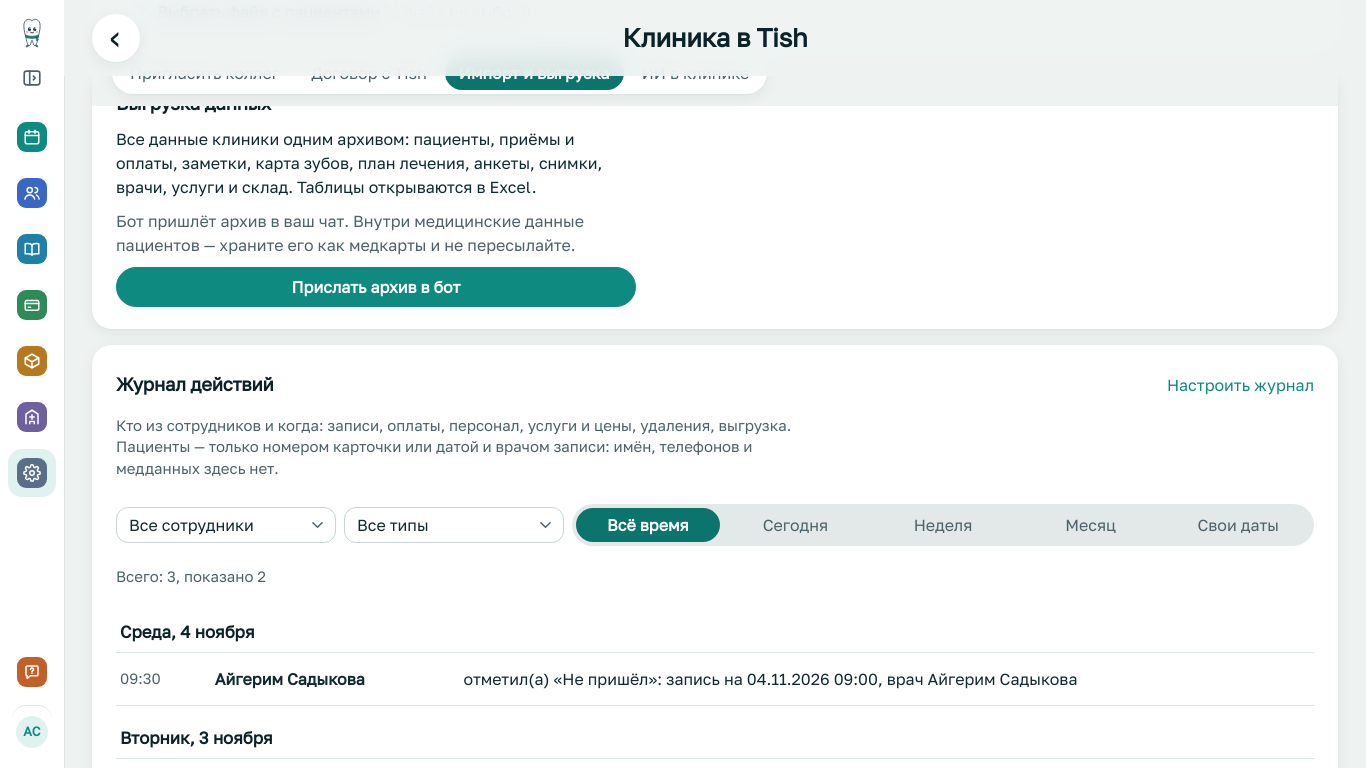
Test case: «Настроить журнал»: обязательные — с замком и без галочки, выключенное уходит на сервер
Later steps or results of the test are not shown.
(page scrolled)
Step 1. Click the button "Настроить журнал" → (1240,385), box [1167, 373, 1314, 397]
(page scrolled)
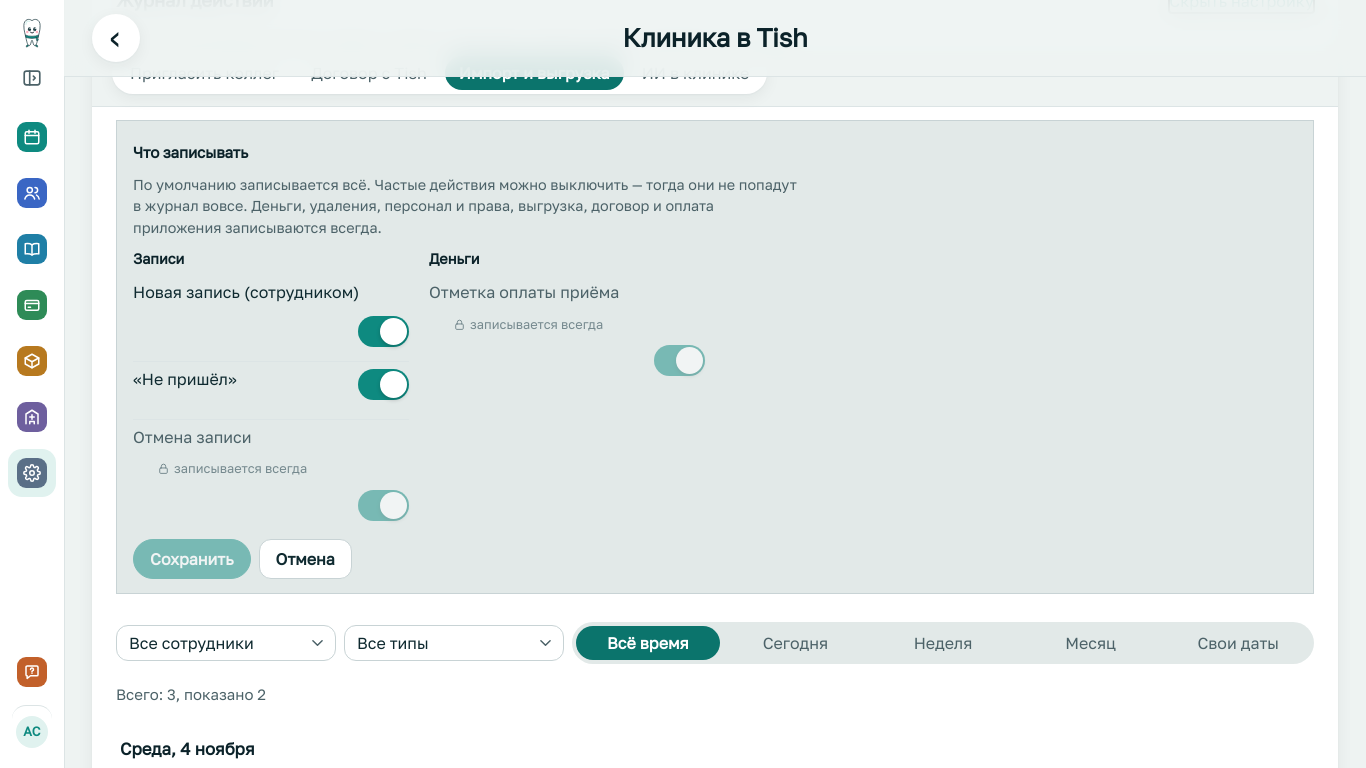
Expected: the checkbox labelled "Отмена записи записывается всегда" is checked, [358, 490, 409, 520]
Expected: the checkbox labelled "Отмена записи записывается всегда" is disabled, [358, 490, 409, 520]
Expected: the text "записывается всегда" is shown 2 times, [157, 460, 307, 476]; [453, 316, 603, 332]
Step 2. Click the checkbox labelled "«Не пришёл»" → (384,384), box [358, 369, 409, 400]
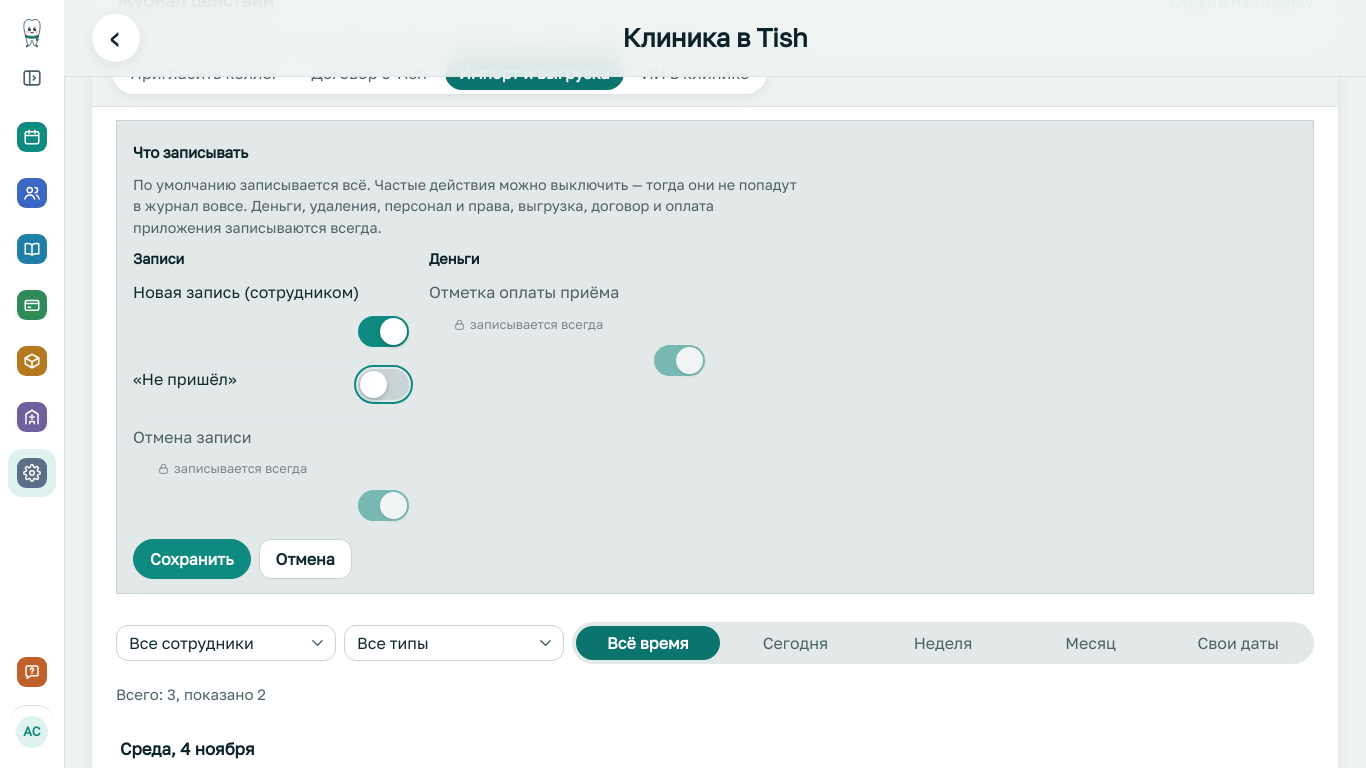
Step 3. Click the button "Сохранить" → (192,558), box [133, 538, 251, 578]
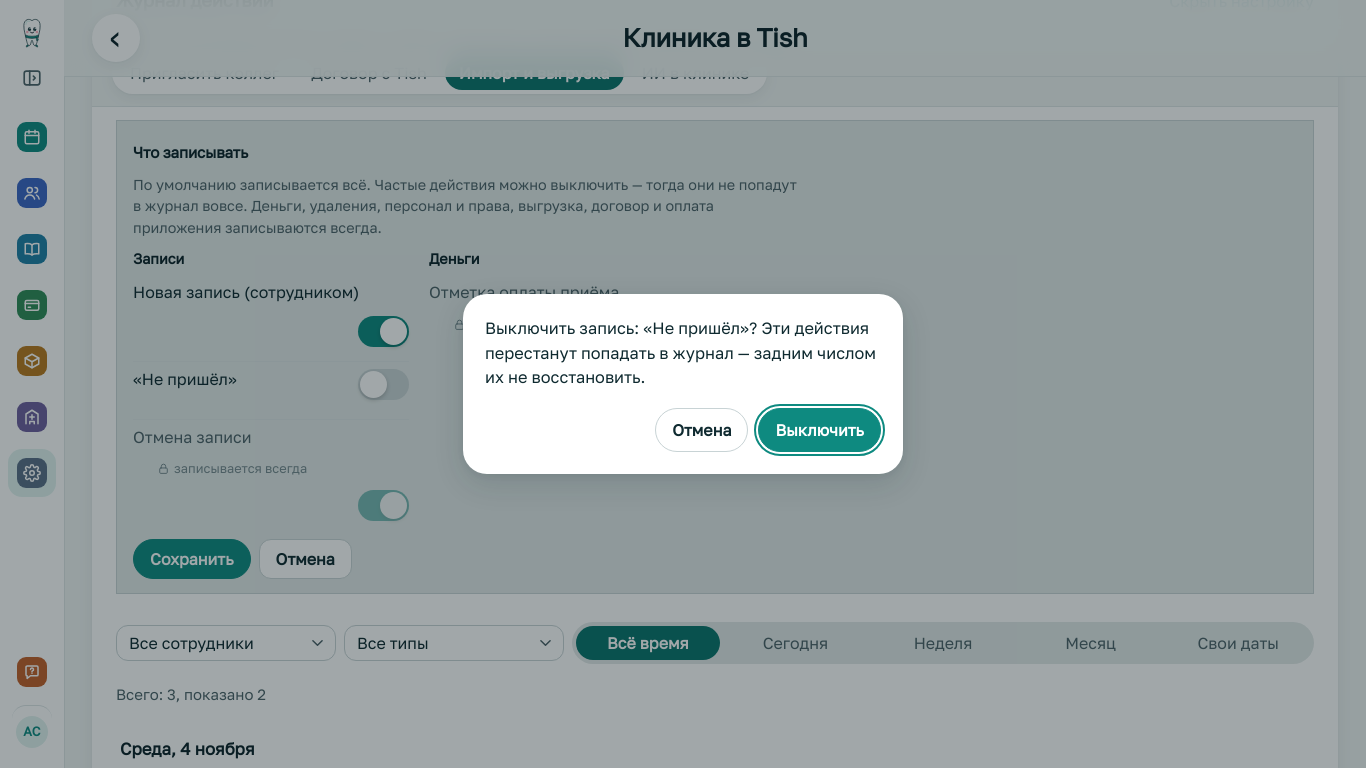
Expected: the dialog shows "Выключить запись: «Не пришёл»?", [485, 318, 876, 387]
